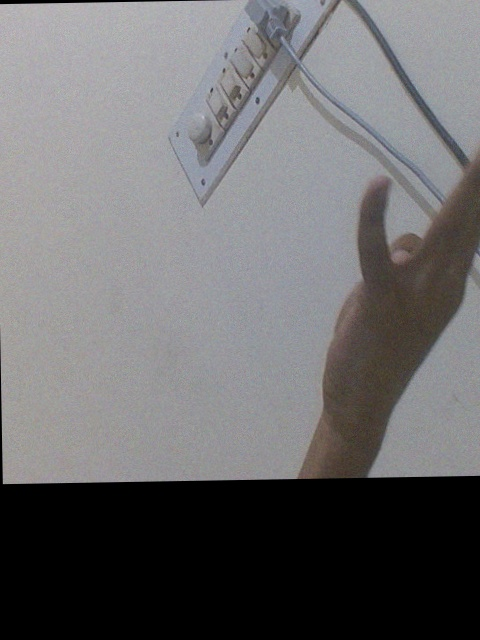hand: (312, 145, 480, 444)
